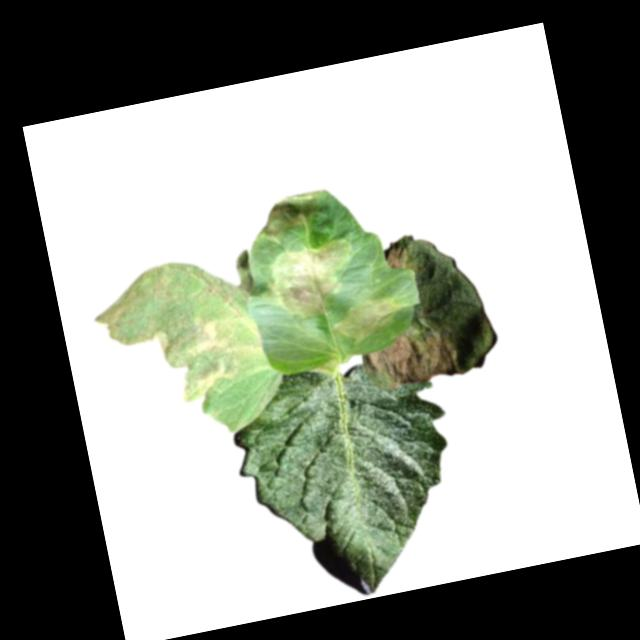Late_blight: (83, 245, 276, 417), (263, 235, 362, 326), (357, 321, 461, 392), (326, 292, 405, 345), (254, 187, 331, 240), (382, 239, 409, 272)
healthy: (222, 345, 478, 615)
